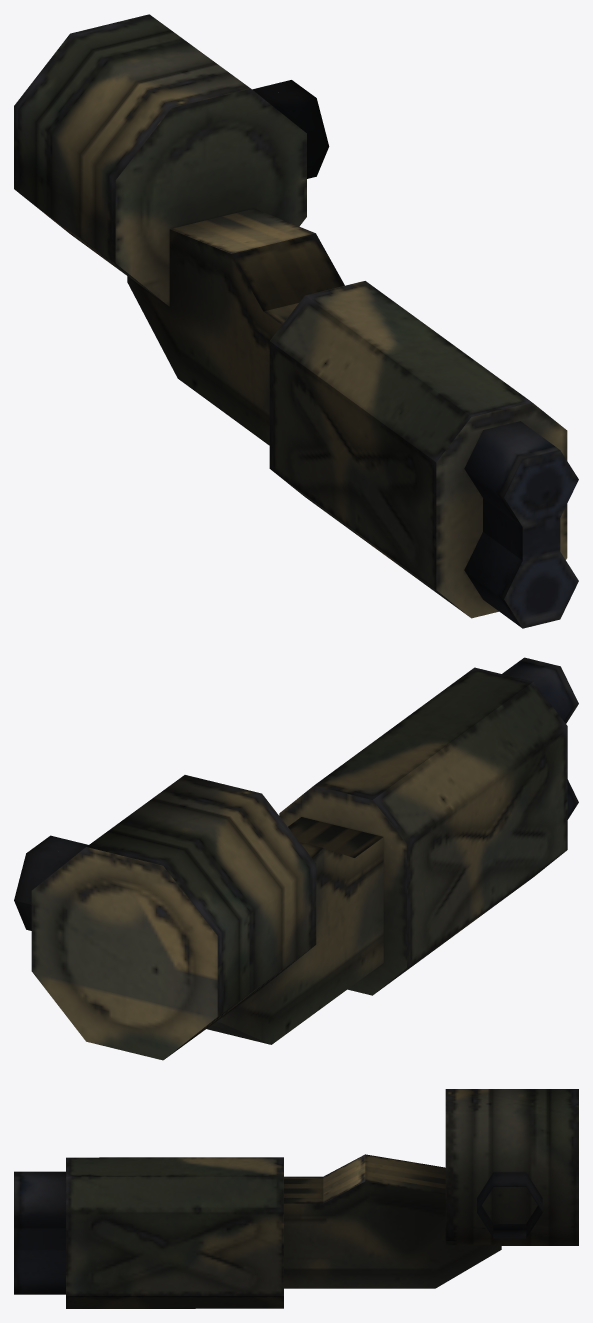
Rendered from Mech02_Weapon_R.FBX.
3 renders of one model, top to bottom at view 1: azimuth 30°, elevation 25°; view 2: azimuth 150°, elevation 25°; view 3: azimuth 270°, elevation 25°, orthographic. The views are drawn at different scales.
Parts seen in each view (by area): view 1: Weapon_R; view 2: Weapon_R; view 3: Weapon_R.
Part boxes in pixels (bbox=[...]): Weapon_R: bbox=[14, 14, 578, 628]; Weapon_R: bbox=[14, 657, 578, 1060]; Weapon_R: bbox=[14, 1089, 578, 1308].
Bounding box in the file's own units: 344 × 417 × 1081.
